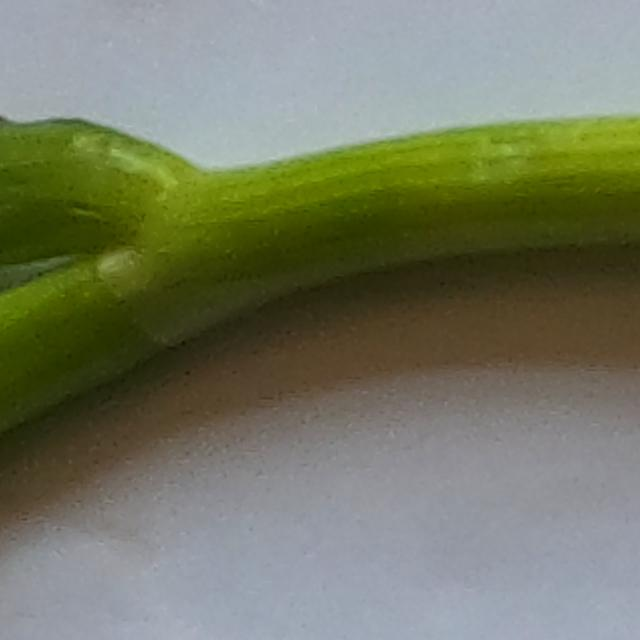green_onion: (0, 116, 640, 475)
